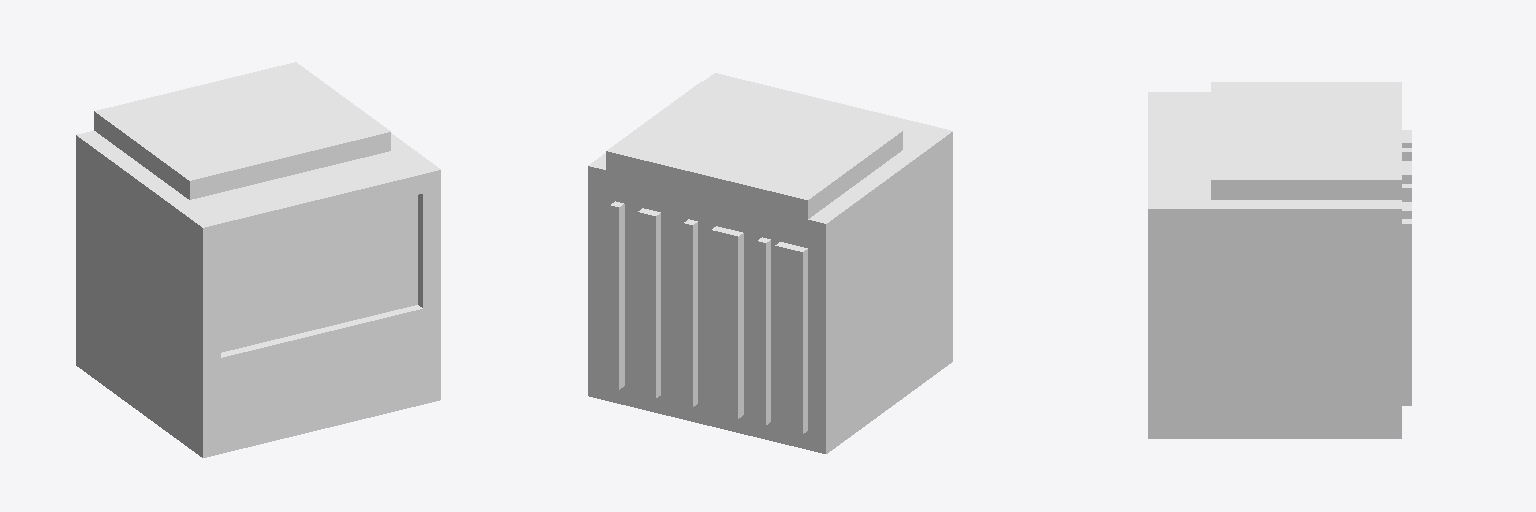
The model's file is 1pcError.obj.
The picture shows the model from 3 angles: view 1: azimuth 30°, elevation 25°; view 2: azimuth 150°, elevation 25°; view 3: azimuth 270°, elevation 25°; orthographic projection.
Visible parts, largest first — view 1: object 1; view 2: object 1; view 3: object 1.
Boxes of the visible parts, x1=… form: object 1: x1=76, y1=62, x2=440, y2=457; object 1: x1=588, y1=73, x2=952, y2=453; object 1: x1=1148, y1=82, x2=1411, y2=438.
Bounding box in the file's own units: 2.6 × 2.6 × 2.5.